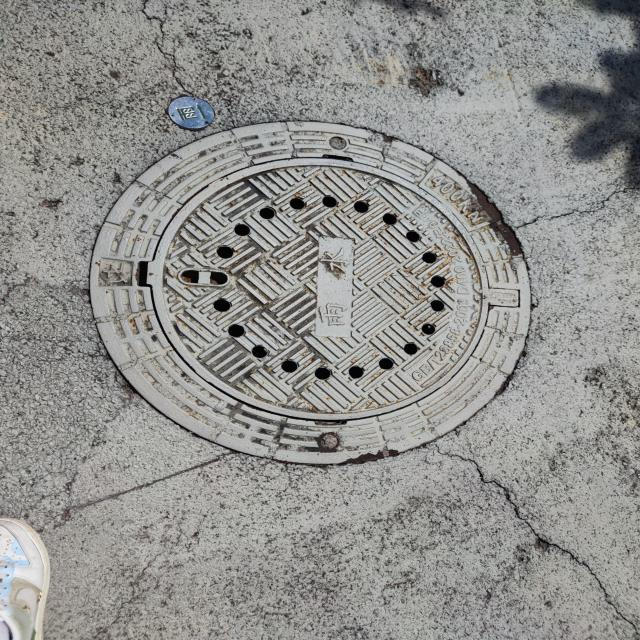Good: (79, 116, 538, 472)
